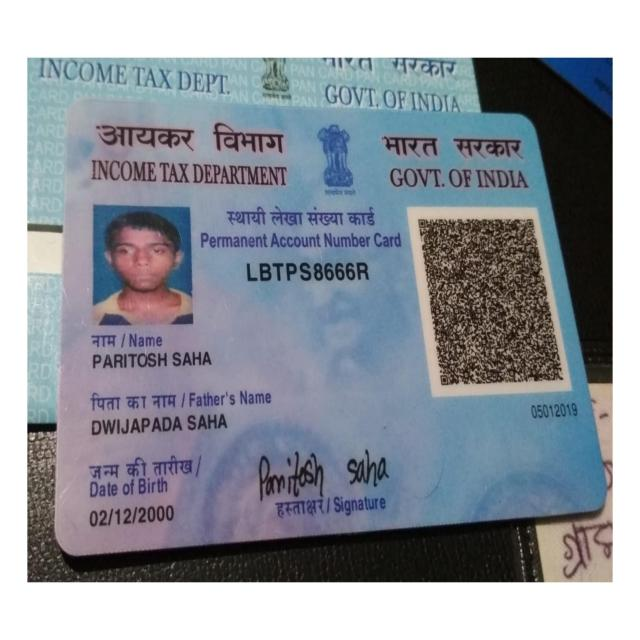pan_card: (57, 104, 605, 550)
